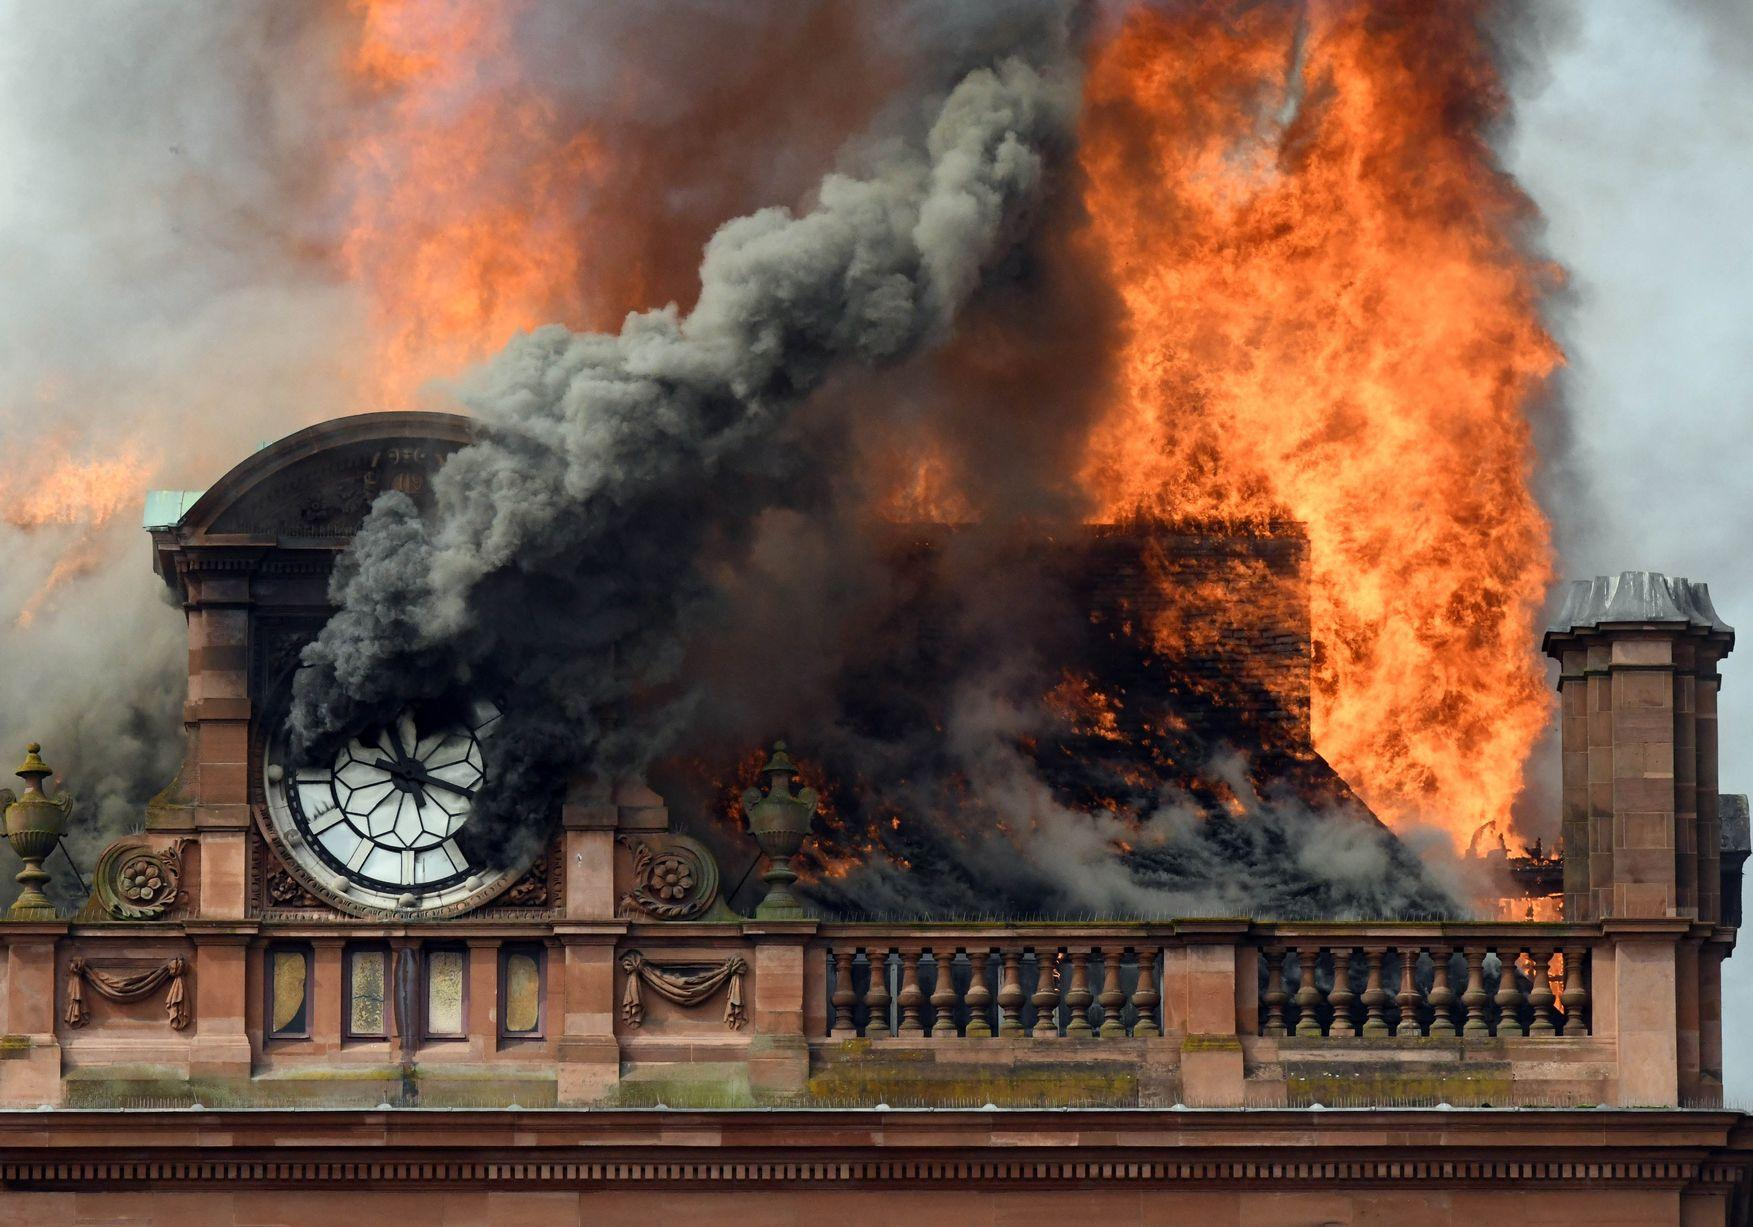Fire: (3, 3, 1642, 943)
